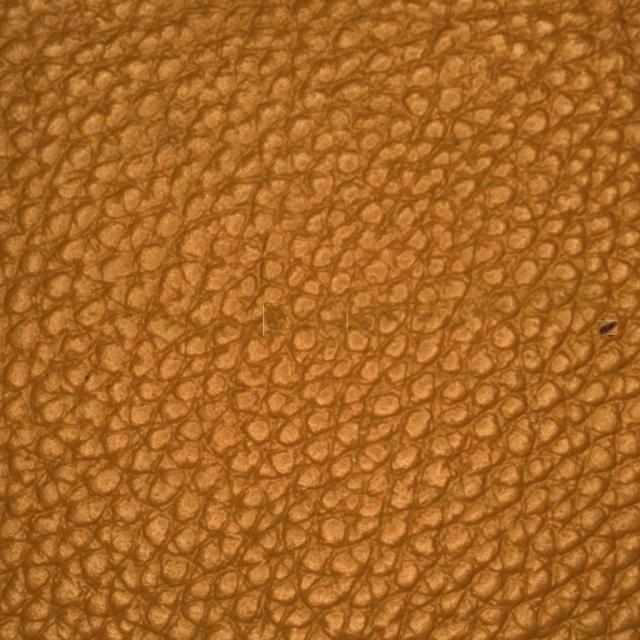Healed Injury: (136, 244, 458, 385)
pinhole: (494, 240, 623, 404)
